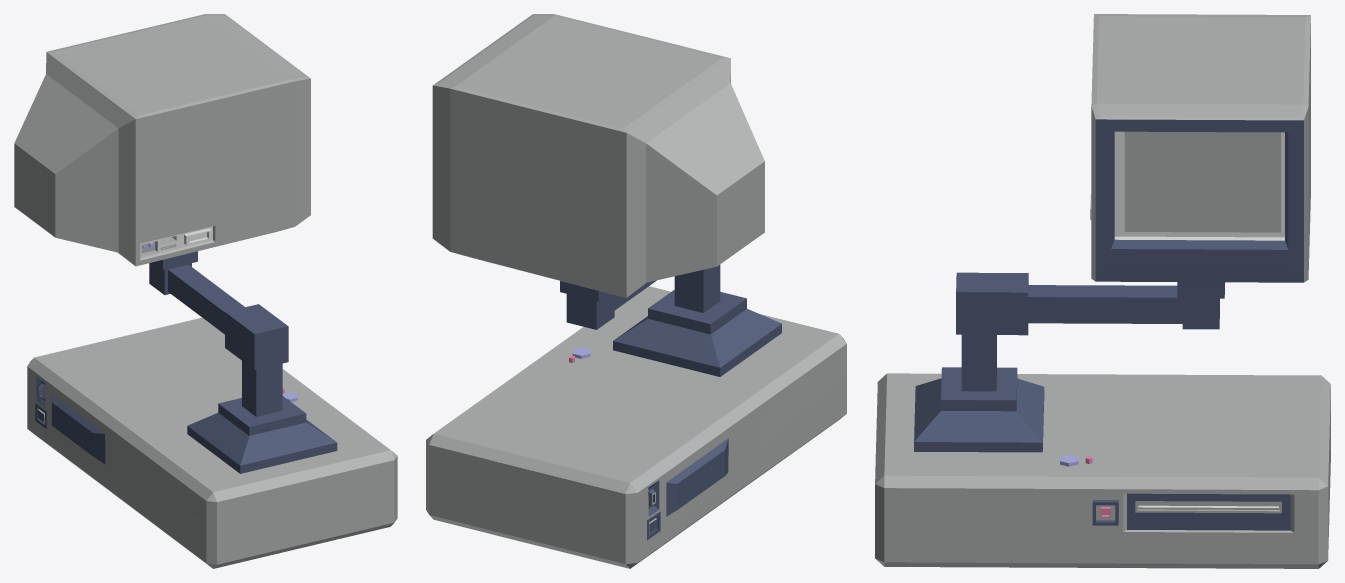
The model's file is Computer.gltf.
3 renders of one model, left to right at view 1: azimuth 30°, elevation 25°; view 2: azimuth 150°, elevation 25°; view 3: azimuth 270°, elevation 25°, orthographic. The views are drawn at different scales.
Parts seen in each view (by area): view 1: keyboard 1; view 2: keyboard 1; view 3: keyboard 1.
Boxes of the visible parts, bbox=[...] form: keyboard 1: bbox=[14, 14, 397, 568]; keyboard 1: bbox=[426, 14, 846, 568]; keyboard 1: bbox=[875, 14, 1330, 568].
Size of the model in its own units: 3.46 by 5.4 by 4.89.
